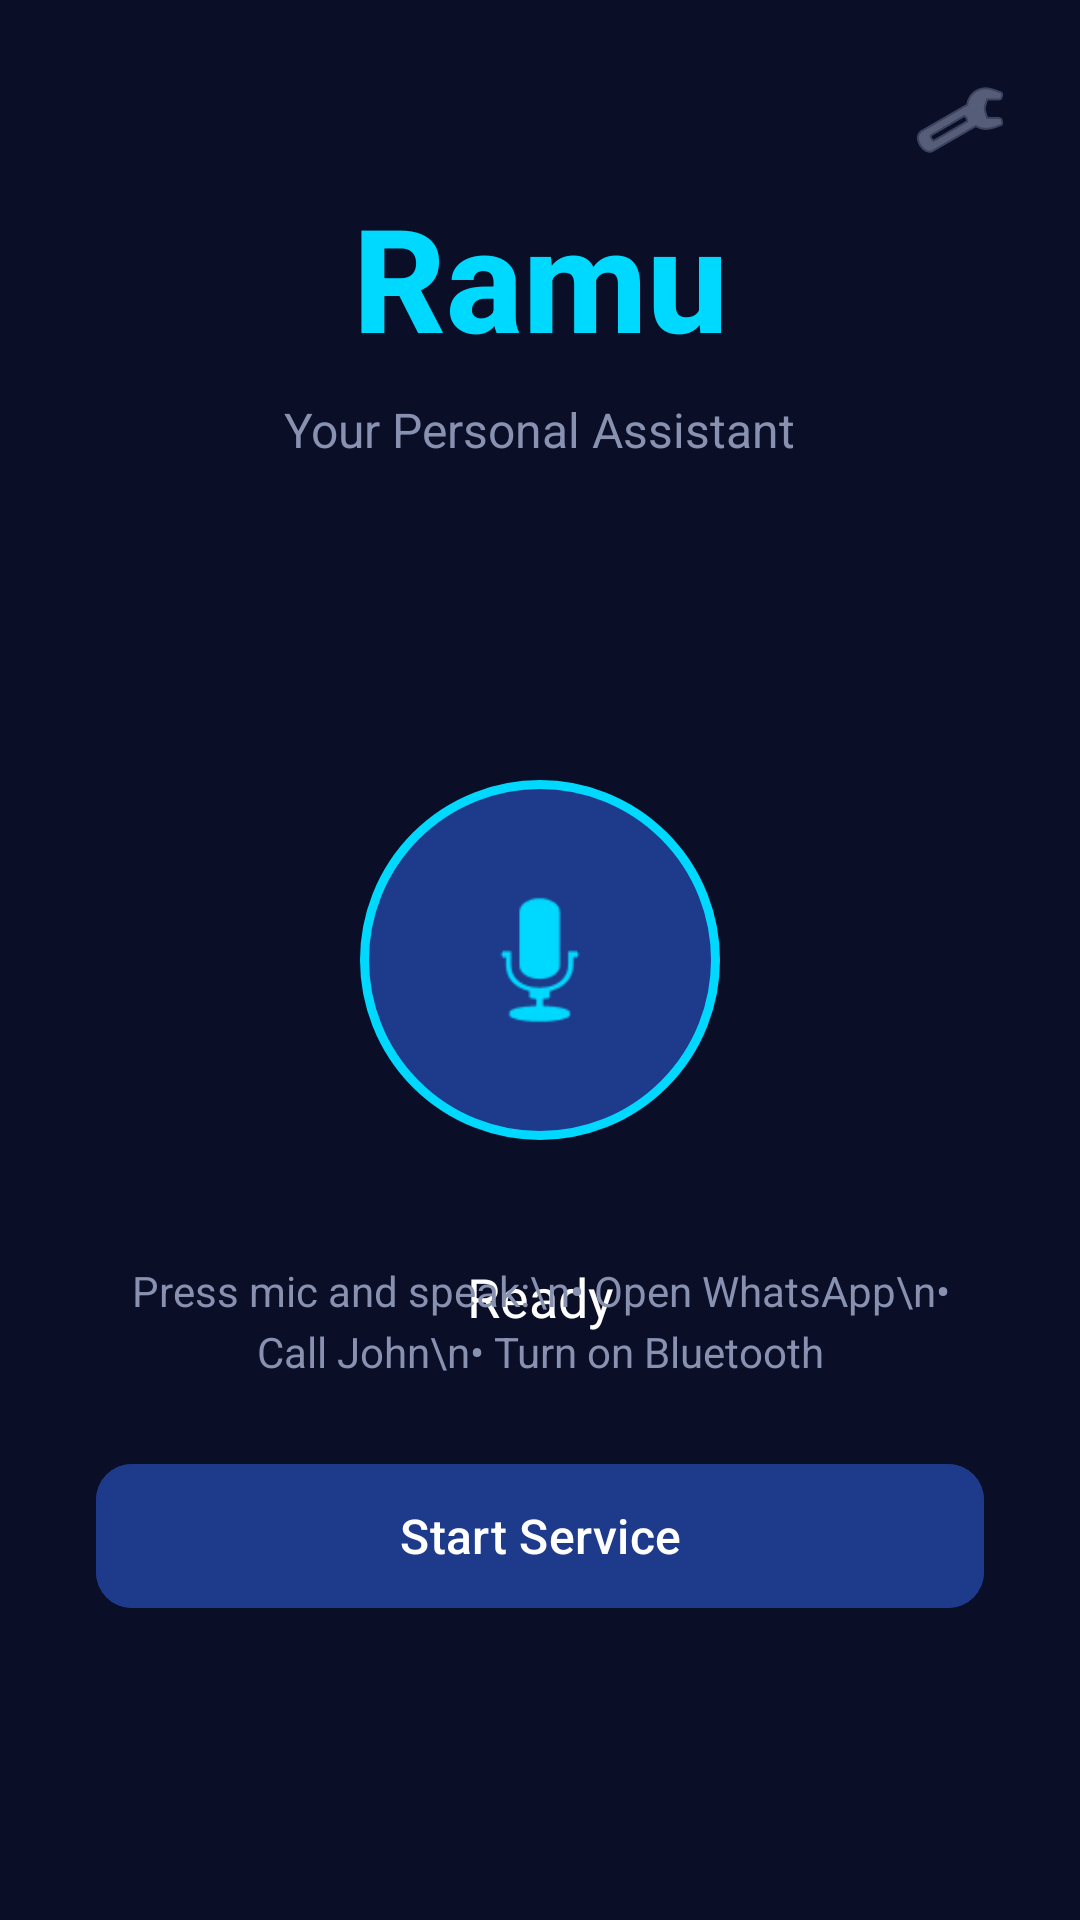

Named icons in this screenshot (1080×1920) and their bounding boxes, [x1, y1, x2, y2]:
manage: [917, 87, 1003, 153]
speak now: [360, 780, 720, 1140]
